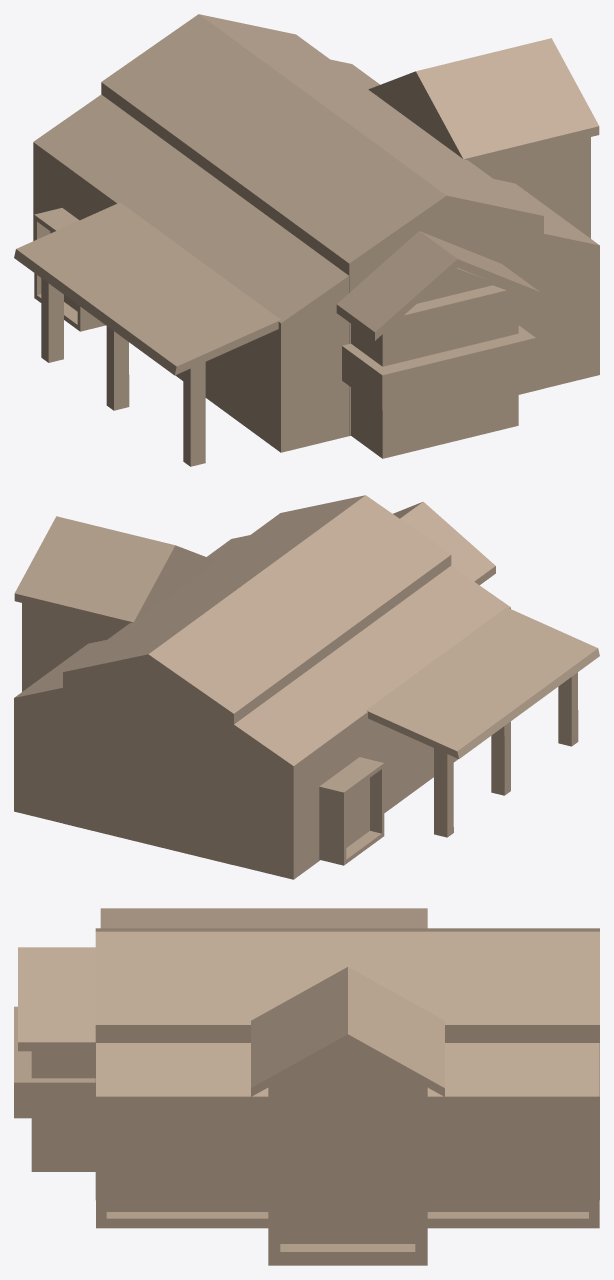
The picture shows the model from 3 angles, top to bottom: view 1: azimuth 30°, elevation 25°; view 2: azimuth 150°, elevation 25°; view 3: azimuth 270°, elevation 25°; orthographic projection. The views are drawn at different scales.
Visible parts, largest first — view 1: pCube303; view 2: pCube303; view 3: pCube303.
Boxes of the visible parts, x1,y1,x2,y2 form: pCube303: (14,14,599,466); pCube303: (14,495,599,879); pCube303: (14,908,599,1265).
Size of the model in its own units: 19.74 by 8.62 by 19.77.
